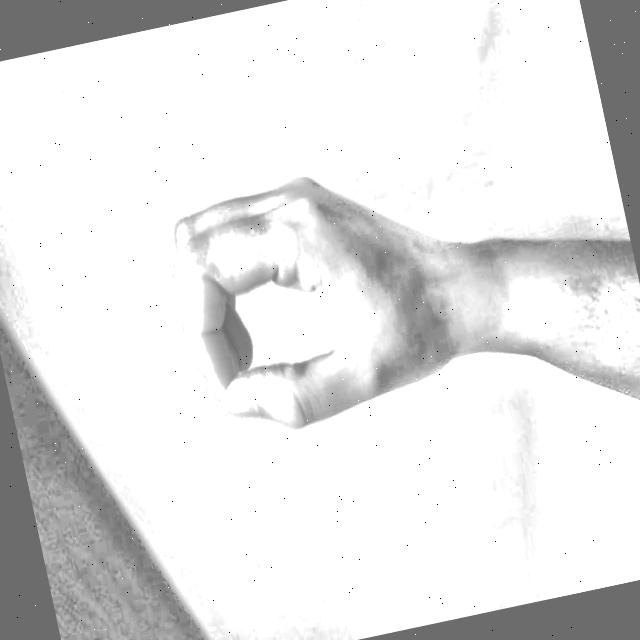O: (133, 132, 500, 484)
